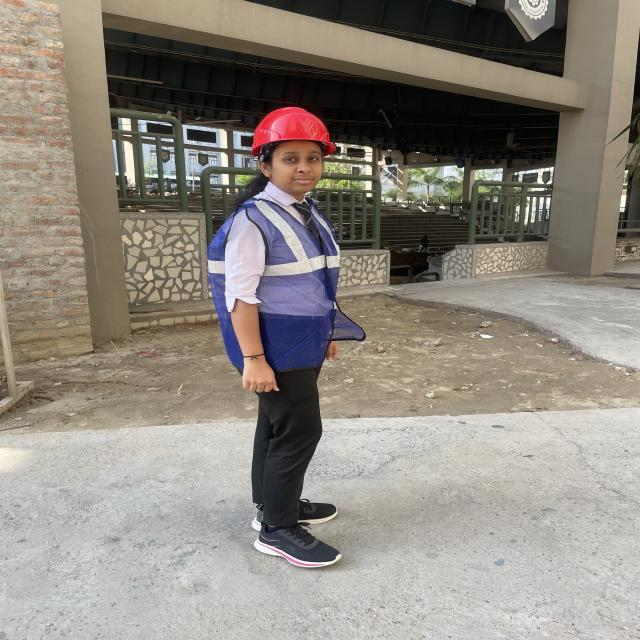safe: (208, 107, 366, 567)
